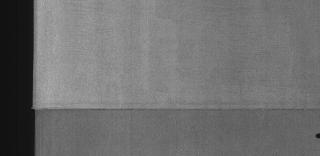punching hole: (314, 131, 320, 139)
welding line: (29, 104, 319, 116)
